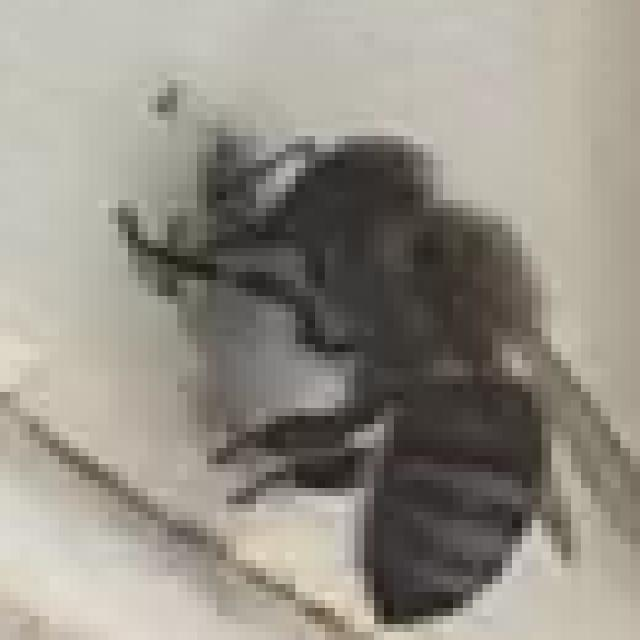honeybee: (117, 136, 563, 608)
